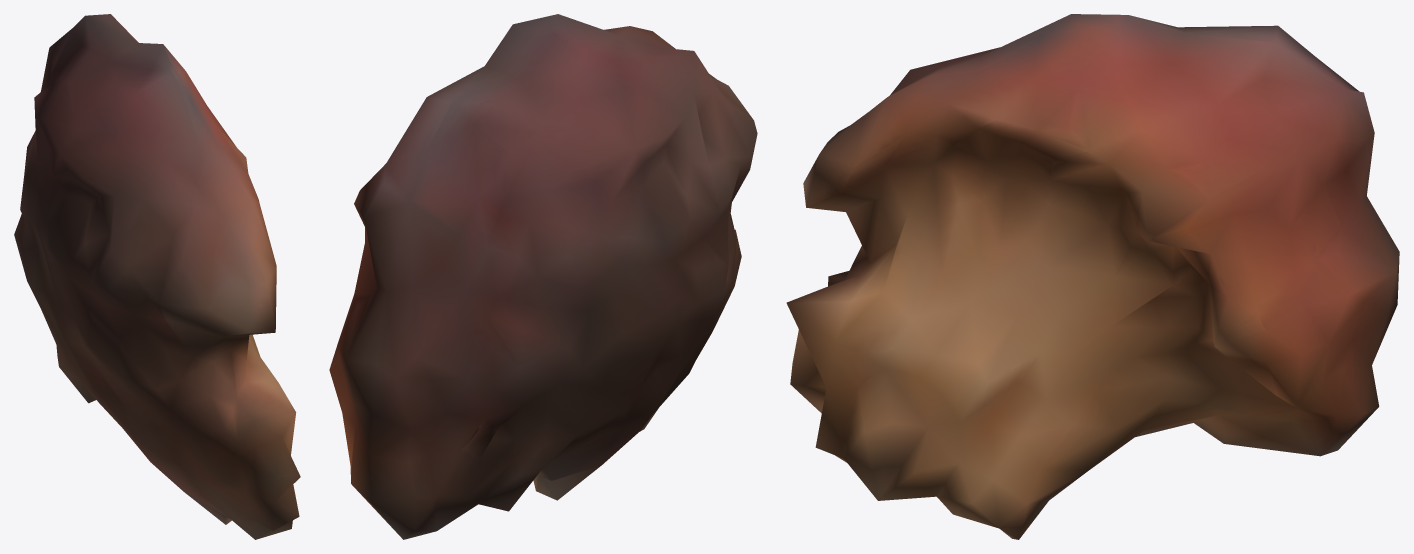
The model's file is mushroom_flesh.glb.
3 renders of one model, left to right at view 1: azimuth 30°, elevation 25°; view 2: azimuth 150°, elevation 25°; view 3: azimuth 270°, elevation 25°, orthographic. The views are drawn at different scales.
Visible parts, largest first — view 1: model; view 2: model; view 3: model.
Part boxes in pixels (x1,y1,x2,y2): model: (14, 14, 300, 539); model: (329, 14, 757, 539); model: (786, 14, 1399, 539).
Size of the model in its own units: 0.1765 by 0.371 by 0.399.
1 material, 1 textured.
